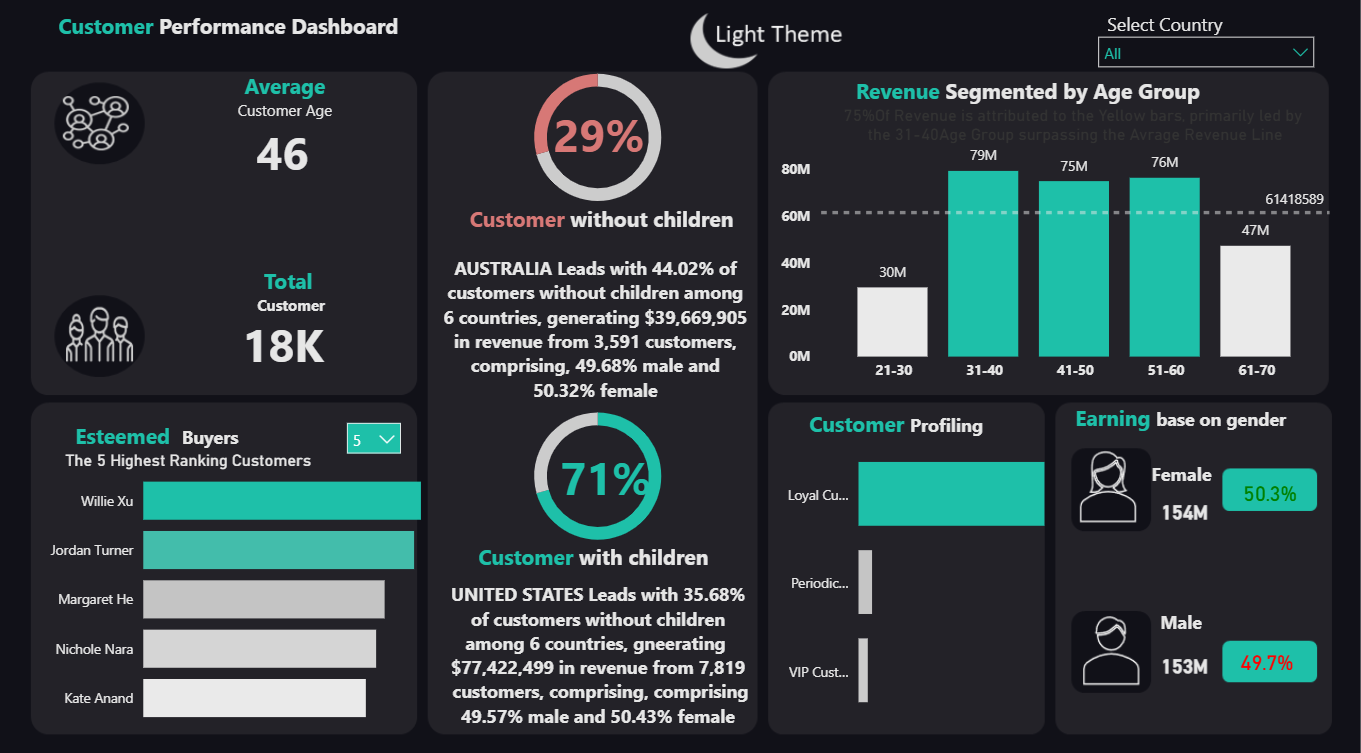

Layout of this report page (visuals, bound fields, positions):
{"tool":"powerbi","page":{"name":"Dark Mode","canvas":[1244,696],"ordinal":1},"visuals":[{"type":"image","box":[0,0,1210.5,696.2],"z":0},{"type":"clusteredColumnChart","fields":{"Category":["DimCustomer.Age Category"],"Y":["All Meaures.Total Revenue"]},"box":[690.3,130,497.7,230.5],"z":1000},{"type":"card","fields":{"Values":["All Meaures.Age Caption"]},"box":[716.3,94.6,479.9,61],"z":2000},{"type":"donutChart","fields":{"Y":["Customer Meaures.%CWC","Customer Meaures.%C Without C"]},"box":[436.7,60,191.5,151.3],"z":3000},{"type":"donutChart","fields":{"Y":["Customer Meaures.%CWC","Customer Meaures.%C Without C"]},"box":[436.7,361.5,191.5,151.3],"z":4000},{"type":"card","fields":{"Values":["Customer Meaures.%C Without C"]},"box":[486.3,97.9,93.4,69.7],"z":5000},{"type":"card","fields":{"Values":["Customer Meaures.%CWC"]},"box":[493.4,401.7,92.2,69.7],"z":6000},{"type":"textbox","box":[413.7,190.3,249.4,43.7],"z":7000},{"type":"textbox","box":[420.8,490.6,249.4,42.6],"z":8000},{"type":"card","fields":{"Values":["Customer Meaures.Caption Customers without Children"]},"box":[386.8,505.6,292,156.9],"z":9000},{"type":"card","fields":{"Values":["Customer Meaures.Caption Customers with Children"]},"box":[381.3,215.7,302.9,156.9],"z":10000},{"type":"clusteredBarChart","fields":{"Category":["DimCustomer.Customer Type"],"Y":["All Meaures.Total Revenue"]},"box":[690,368,255.3,305],"z":11000},{"type":"clusteredBarChart","fields":{"Category":["DimCustomer.Fullname"],"Y":["Customer Meaures.Dynamic Customers"]},"box":[34.3,411.4,353.4,263.6],"z":12000},{"type":"slicer","fields":{"Values":["Dynamic Customers.Dynamic Customers"]},"box":[299.1,384.2,68.6,35.5],"z":13000},{"type":"card","fields":{"Values":["Customer Meaures.%Female"]},"box":[1356.5,453.1,106.9,59.1],"z":14000},{"type":"card","fields":{"Values":["Customer Meaures.%Male"]},"box":[1356.5,574.1,106.9,64.7],"z":15000},{"type":"card","fields":{"Values":["Customer Meaures.AVG Customer Age"]},"box":[187.9,118.2,128.8,61.5],"z":16000},{"type":"card","fields":{"Values":["Customer Meaures.#Customers"]},"box":[189.1,288.4,127.7,60.3],"z":17000},{"type":"textbox","box":[956.3,372.4,197.4,41.4],"z":18000},{"type":"textbox","box":[1212.9,584,129.5,43.6],"z":19000},{"type":"textbox","box":[185.6,72.1,137.1,60.3],"z":20000},{"type":"textbox","box":[191.5,245.9,137.1,60.3],"z":21000},{"type":"card","fields":{"Values":["Customer Meaures.%Female"]},"box":[1089.9,435,79.2,35.5],"z":22000},{"type":"card","fields":{"Values":["Customer Meaures.%Male"]},"box":[1084,583.9,85.1,37.8],"z":23000},{"type":"card","fields":{"Values":["Customer Meaures.Title Top Customers"]},"box":[37.8,404.3,261.2,39],"z":24000},{"type":"textbox","box":[756.5,76.8,329.8,41.4],"z":25000},{"type":"textbox","box":[977.6,18.9,117,41.4],"z":26000},{"type":"textbox","box":[1024.9,423.2,62.6,29.6],"z":27000},{"type":"textbox","box":[1031.9,554.4,62.6,29.6],"z":28000},{"type":"card","fields":{"Values":["Customer Meaures.Female Revenue"]},"box":[1024.9,452.7,59.1,35.5],"z":29000},{"type":"card","fields":{"Values":["Customer Meaures.Male Revenue"]},"box":[1024.9,588.7,59.1,35.5],"z":30000},{"type":"textbox","box":[47.3,18.9,340.4,41.4],"z":31000},{"type":"slicer","fields":{"Values":["DimGeography.Country"]},"box":[966.9,35.5,212.8,72.1],"z":32000},{"type":"textbox","box":[54.9,383.5,166.7,41.4],"z":33000},{"type":"textbox","box":[701,372.4,192.7,41.4],"z":34000},{"type":"actionButton","box":[620.6,20.1,138.3,52],"z":35000}]}

Visuals, with their boxes in screenshot pixels (x1, y1, x2, y2), scaled from the page's 1244x696 canvas onto the 1361x753 screenshot:
image: box=[0, 0, 1324, 752]
clusteredColumnChart - DimCustomer.Age Category x All Meaures.Total Revenue: box=[755, 141, 1300, 390]
card - All Meaures.Age Caption: box=[784, 102, 1309, 168]
donutChart - Customer Meaures.%CWC x Customer Meaures.%C Without C: box=[478, 65, 687, 229]
donutChart - Customer Meaures.%CWC x Customer Meaures.%C Without C: box=[478, 391, 687, 555]
card - Customer Meaures.%C Without C: box=[532, 106, 634, 181]
card - Customer Meaures.%CWC: box=[540, 435, 641, 510]
textbox: box=[453, 206, 725, 253]
textbox: box=[460, 531, 733, 577]
card - Customer Meaures.Caption Customers without Children: box=[423, 547, 743, 717]
card - Customer Meaures.Caption Customers with Children: box=[417, 233, 749, 403]
clusteredBarChart - DimCustomer.Customer Type x All Meaures.Total Revenue: box=[755, 398, 1034, 728]
clusteredBarChart - DimCustomer.Fullname x Customer Meaures.Dynamic Customers: box=[38, 445, 424, 730]
slicer - Dynamic Customers.Dynamic Customers: box=[327, 416, 402, 454]
card - Customer Meaures.AVG Customer Age: box=[206, 128, 346, 194]
card - Customer Meaures.#Customers: box=[207, 312, 347, 377]
textbox: box=[1046, 403, 1262, 448]
textbox: box=[1327, 632, 1360, 679]
textbox: box=[203, 78, 353, 143]
textbox: box=[210, 266, 360, 331]
card - Customer Meaures.%Female: box=[1192, 471, 1279, 509]
card - Customer Meaures.%Male: box=[1186, 632, 1279, 673]
card - Customer Meaures.Title Top Customers: box=[41, 437, 327, 480]
textbox: box=[828, 83, 1188, 128]
textbox: box=[1070, 20, 1198, 65]
textbox: box=[1121, 458, 1190, 490]
textbox: box=[1129, 600, 1197, 632]
card - Customer Meaures.Female Revenue: box=[1121, 490, 1186, 528]
card - Customer Meaures.Male Revenue: box=[1121, 637, 1186, 675]
textbox: box=[52, 20, 424, 65]
slicer - DimGeography.Country: box=[1058, 38, 1291, 116]
textbox: box=[60, 415, 242, 460]
textbox: box=[767, 403, 978, 448]
actionButton: box=[679, 22, 830, 78]
